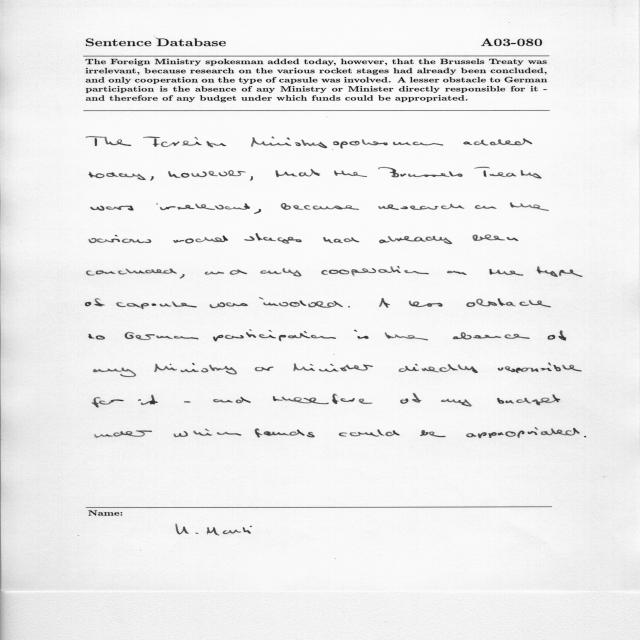word: (213, 330, 336, 341), (157, 203, 262, 214), (466, 428, 580, 438), (333, 139, 443, 149), (321, 266, 429, 276), (273, 394, 372, 404), (87, 269, 185, 279), (259, 297, 343, 308), (143, 137, 226, 148), (154, 363, 237, 374), (378, 167, 463, 177), (498, 363, 582, 373), (251, 137, 327, 148), (466, 299, 551, 308), (474, 167, 542, 178), (293, 363, 373, 372), (398, 364, 478, 373), (497, 395, 560, 406), (116, 302, 197, 310), (244, 233, 302, 244), (168, 170, 246, 178), (453, 332, 530, 340), (255, 428, 315, 438), (125, 332, 199, 340), (379, 236, 452, 244), (174, 429, 242, 437), (379, 204, 465, 210), (89, 171, 146, 180), (89, 235, 151, 243), (537, 266, 582, 277), (463, 139, 532, 146), (86, 136, 131, 146), (173, 236, 228, 244), (339, 430, 400, 437), (95, 431, 152, 438), (94, 368, 136, 377), (276, 169, 320, 177), (92, 397, 124, 408), (385, 333, 428, 341), (260, 268, 302, 276), (293, 205, 359, 210), (473, 234, 519, 241), (510, 203, 549, 211), (400, 393, 422, 404), (490, 269, 524, 276), (334, 170, 367, 177), (210, 303, 248, 309), (213, 397, 251, 403), (441, 399, 472, 406), (324, 237, 360, 243), (91, 206, 133, 211), (138, 395, 158, 405), (409, 301, 442, 307), (548, 330, 566, 341), (420, 430, 446, 437), (85, 298, 105, 307), (354, 330, 369, 339), (379, 298, 390, 308), (230, 269, 247, 275), (89, 334, 105, 340), (475, 205, 496, 209), (205, 271, 224, 275), (447, 271, 466, 275), (255, 367, 273, 371), (281, 203, 291, 210), (150, 176, 154, 181), (250, 176, 253, 181), (184, 401, 191, 403), (348, 306, 350, 308), (584, 436, 586, 437)
